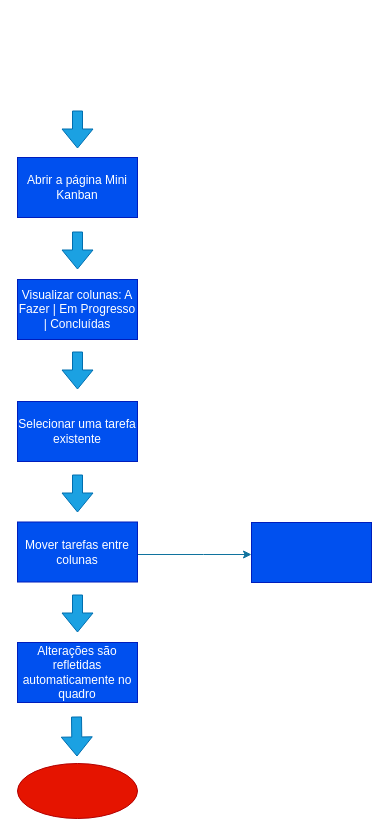
Some shapes in this 389 by 836 pixel diagram are drawn without their labels. Each missing label, with the centre of its shape:
"Altera status" belongs at point 311,552.
"FIM" belongs at point 77,790.
